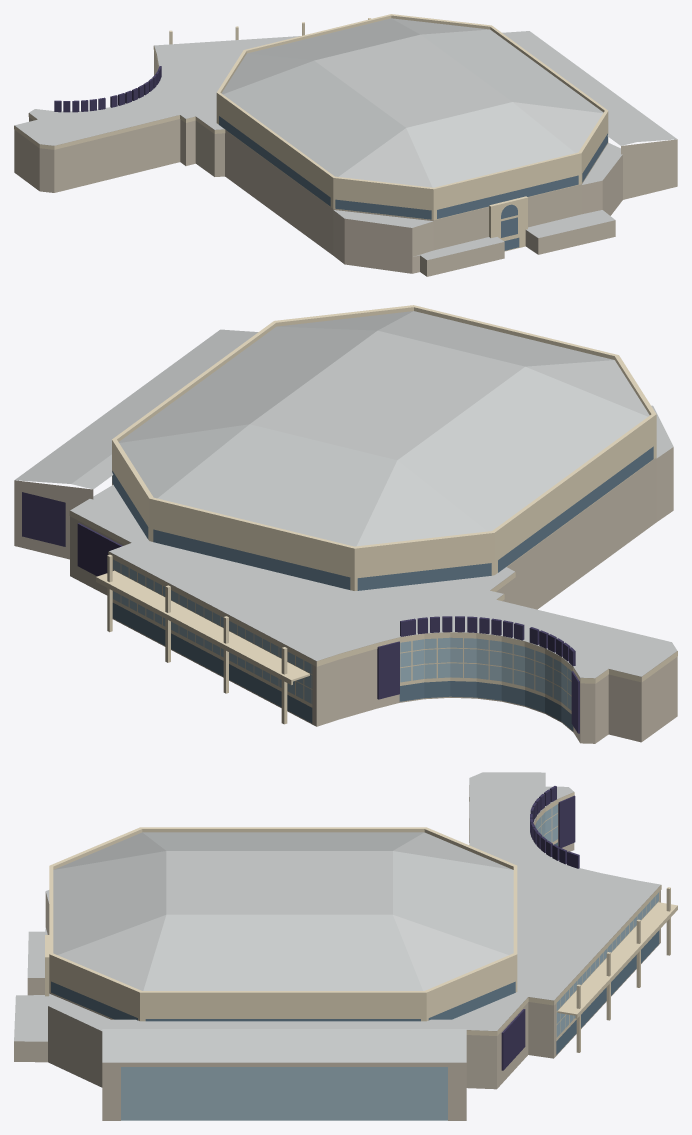
The model's file is phx-footprint-center.glb.
3 views of the same model, one above another, from view 1: azimuth 30°, elevation 25°; view 2: azimuth 150°, elevation 25°; view 3: azimuth 270°, elevation 25° (orthographic). The views are drawn at different scales.
Visible parts, largest first — view 1: Mortgage Matchup Center; view 2: Mortgage Matchup Center; view 3: Mortgage Matchup Center.
Part boxes in pixels (x1=…): Mortgage Matchup Center: x1=14, y1=14, x2=677, y2=276; Mortgage Matchup Center: x1=14, y1=305, x2=677, y2=743; Mortgage Matchup Center: x1=14, y1=772, x2=677, y2=1120.
Size of the model in its own units: 182 by 35.8 by 176.
